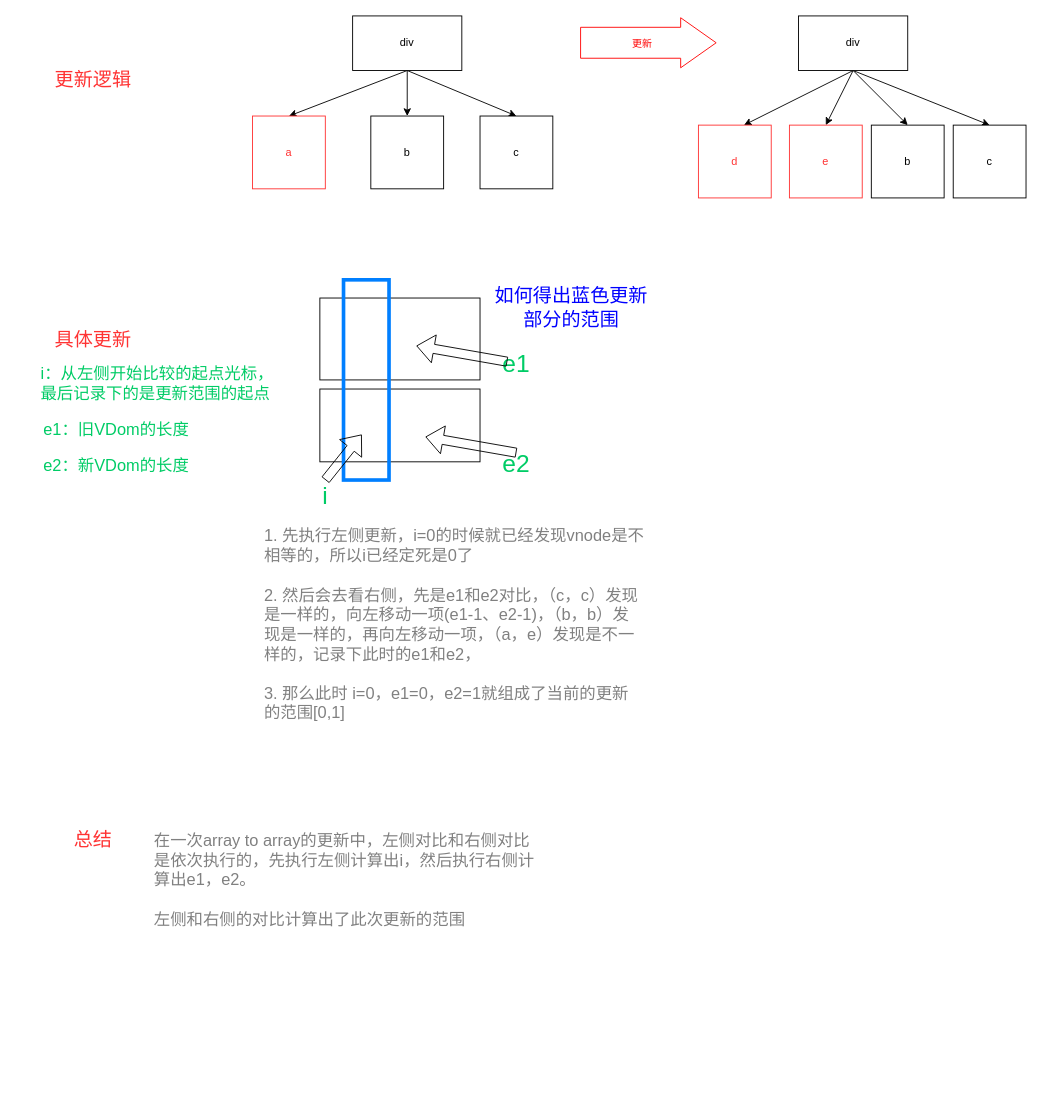
Some shapes in this 1042 by 1110 pixel diagram are drawn without their labels. Each missing label, with the box of its shape:
a （b c）: (319, 297, 480, 380)
d e（bc）: (319, 388, 480, 462)
